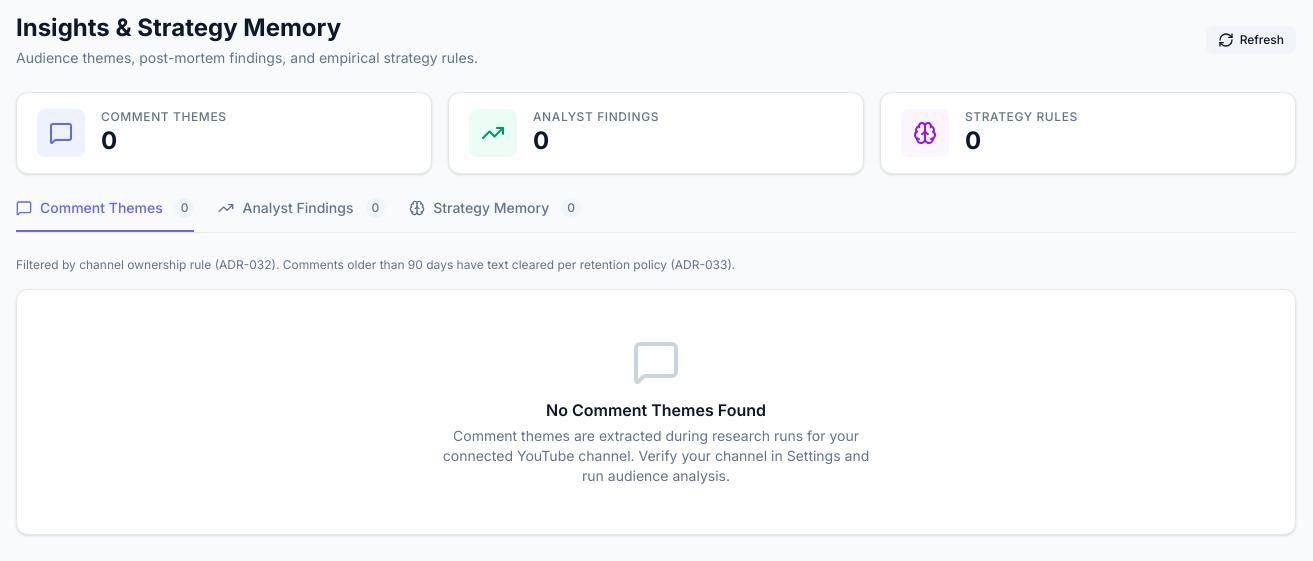
Test: InsightsScreen › renders empty states when no data is returned
Expected: the heading "No Comment Themes Found" is shown, x1=546 y1=400 x2=766 y2=420
Switch to findings
Click the tab "Analyst Findings 0" at [302, 215], box x1=218 y1=198 x2=385 y2=232
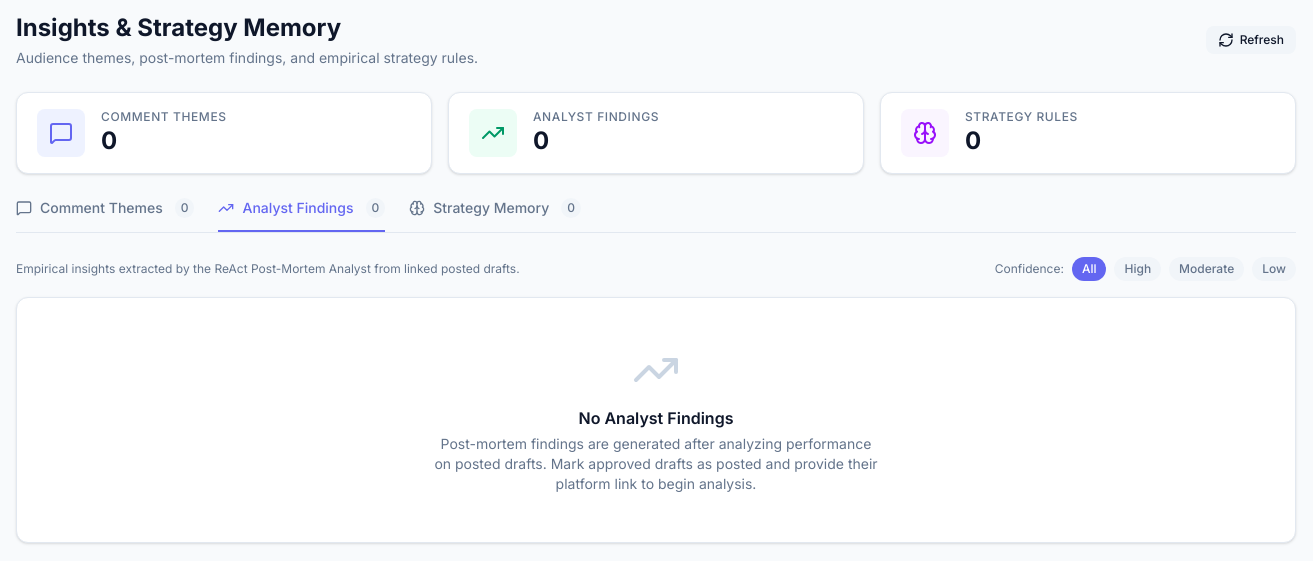
Now the heading "No Analyst Findings" is shown, box x1=578 y1=408 x2=733 y2=428
Switch to strategy
Click the tab "Strategy Memory 0" at [495, 215], box x1=409 y1=198 x2=581 y2=232
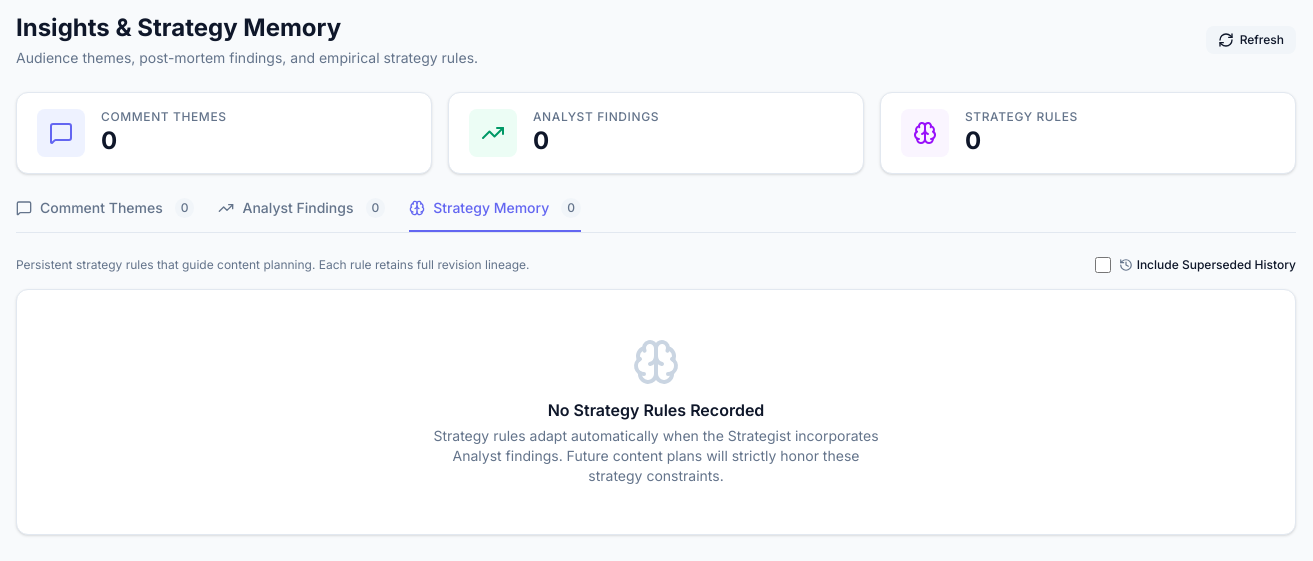
Now the heading "No Strategy Rules Recorded" is shown, box x1=548 y1=400 x2=764 y2=420
